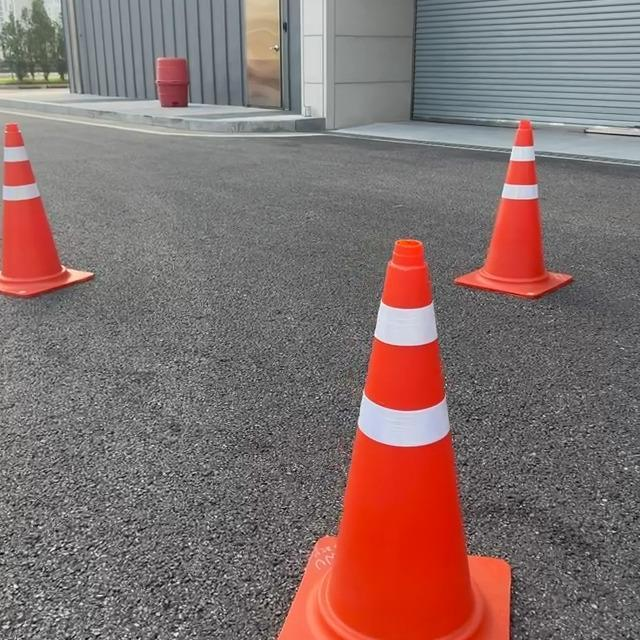fallen_object: (230, 193, 512, 640), (430, 85, 576, 323), (0, 88, 120, 316)
